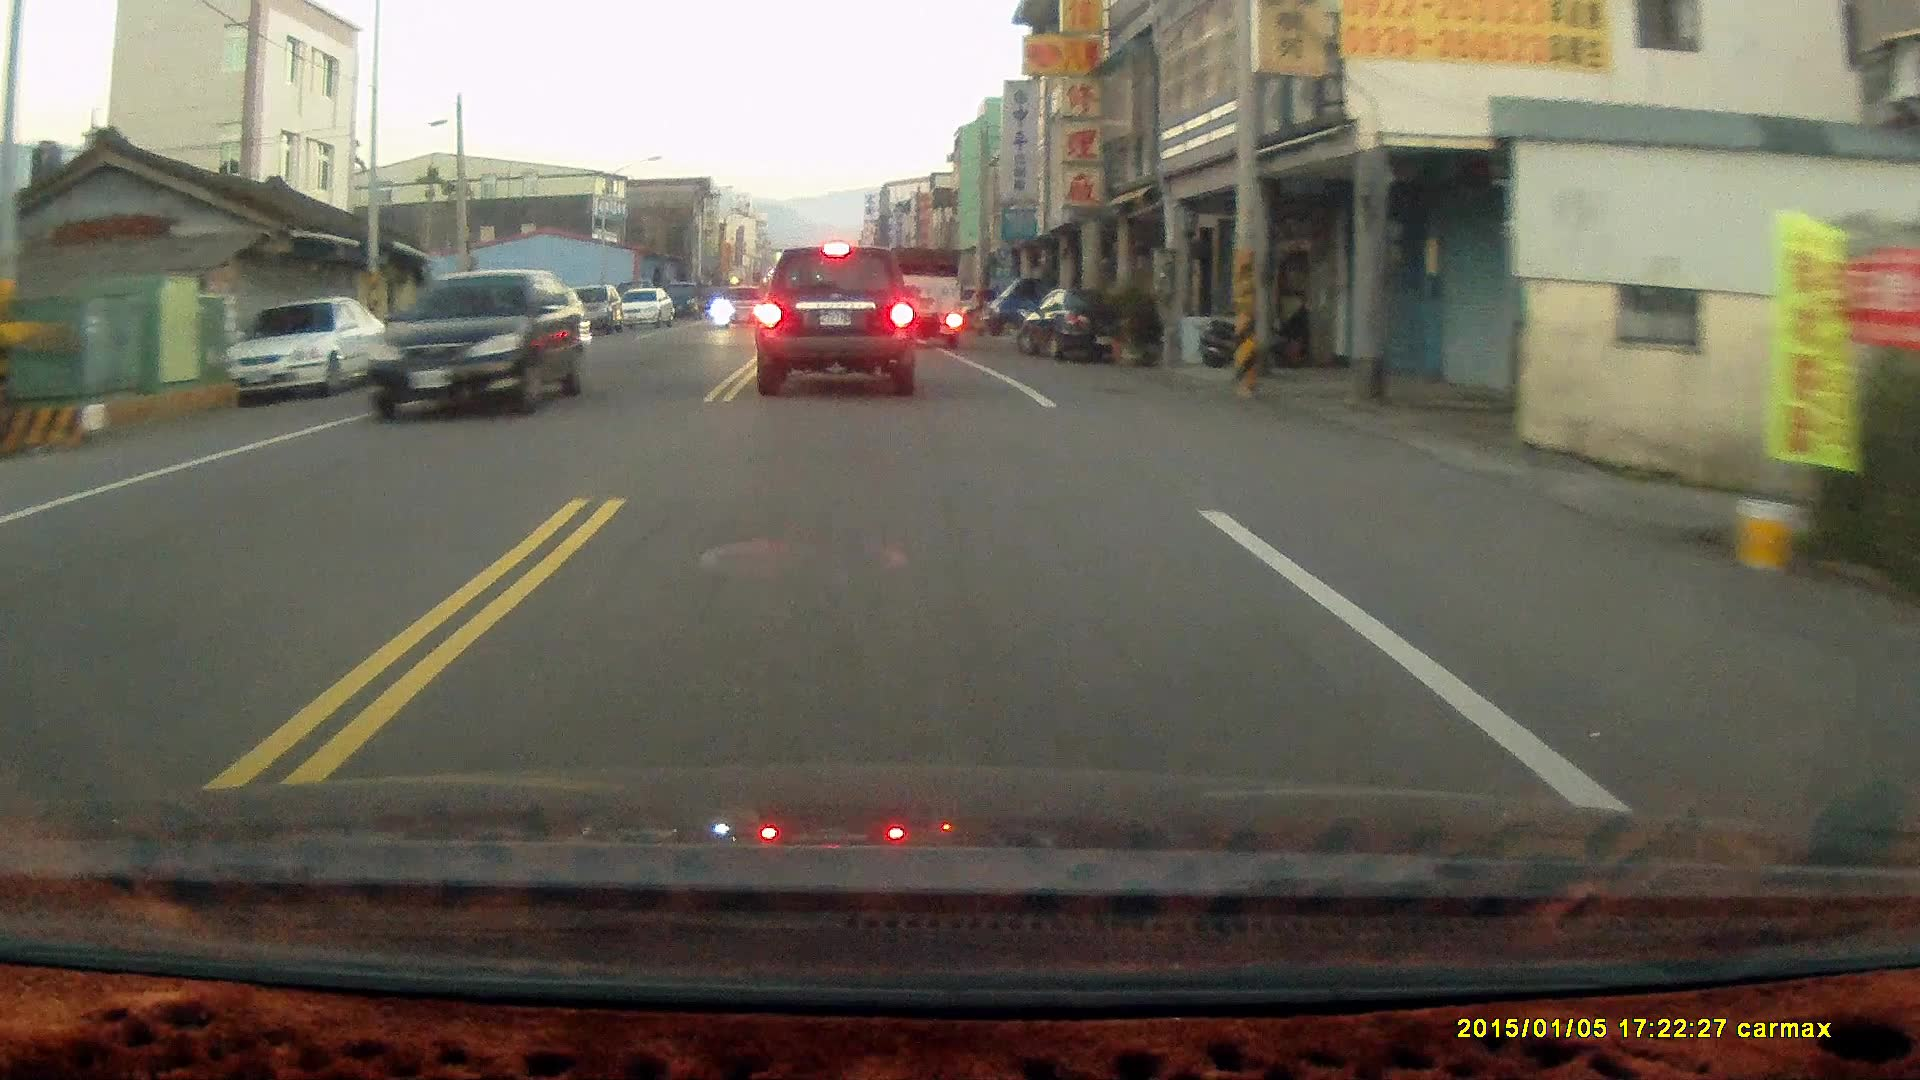vehicle: (363, 269, 585, 425), (754, 247, 919, 404), (224, 297, 390, 402), (1023, 293, 1147, 371), (884, 255, 967, 359), (554, 284, 626, 336), (709, 286, 778, 332), (615, 287, 675, 332)
